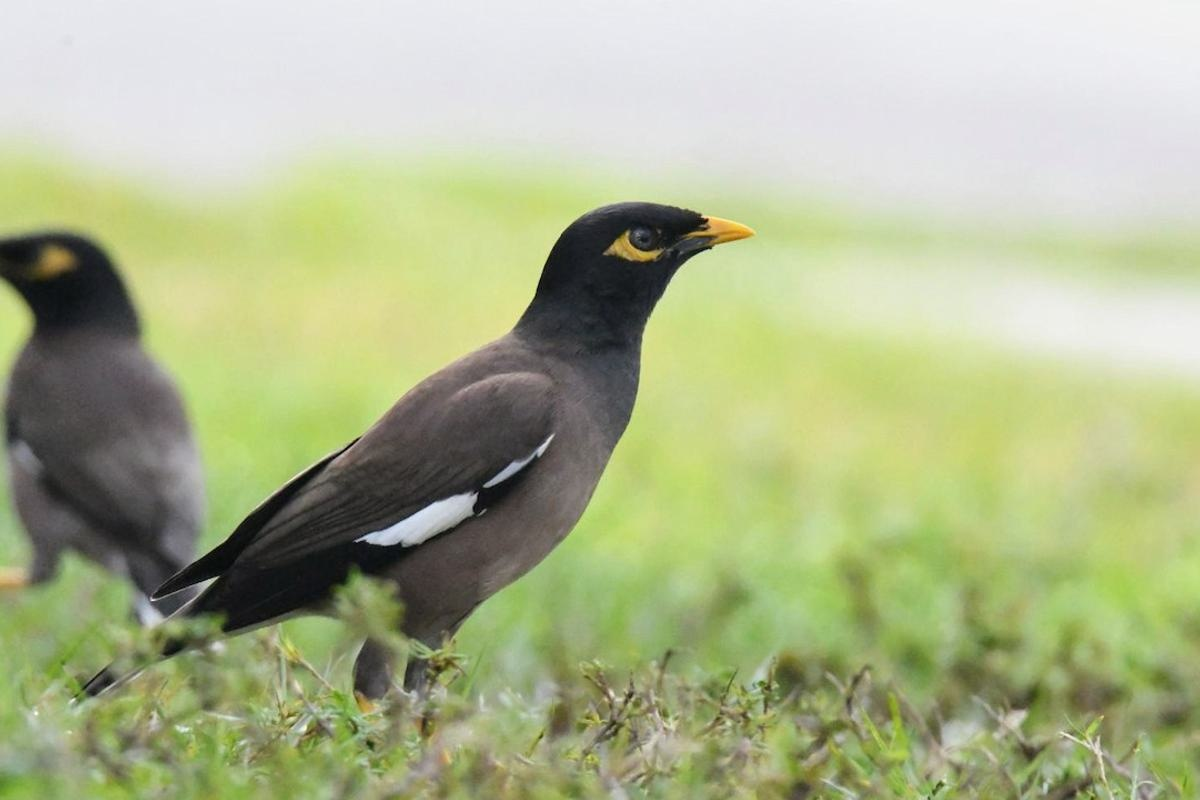myna: (149, 185, 771, 748)
